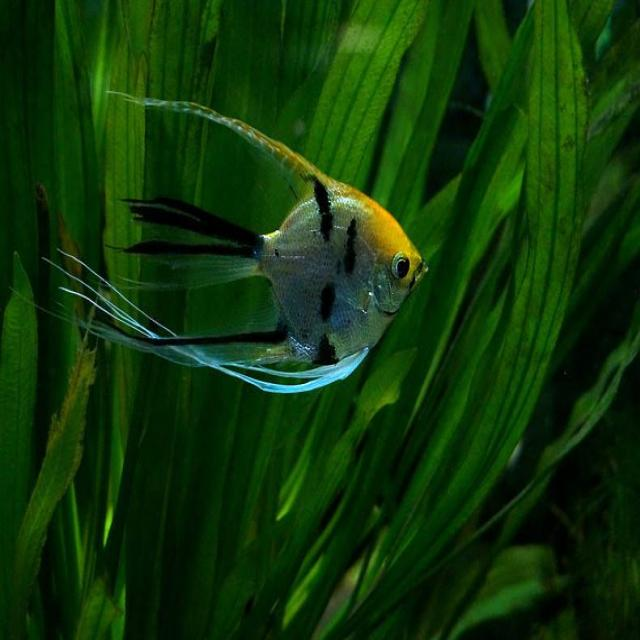AngelFish: (86, 88, 427, 392)
